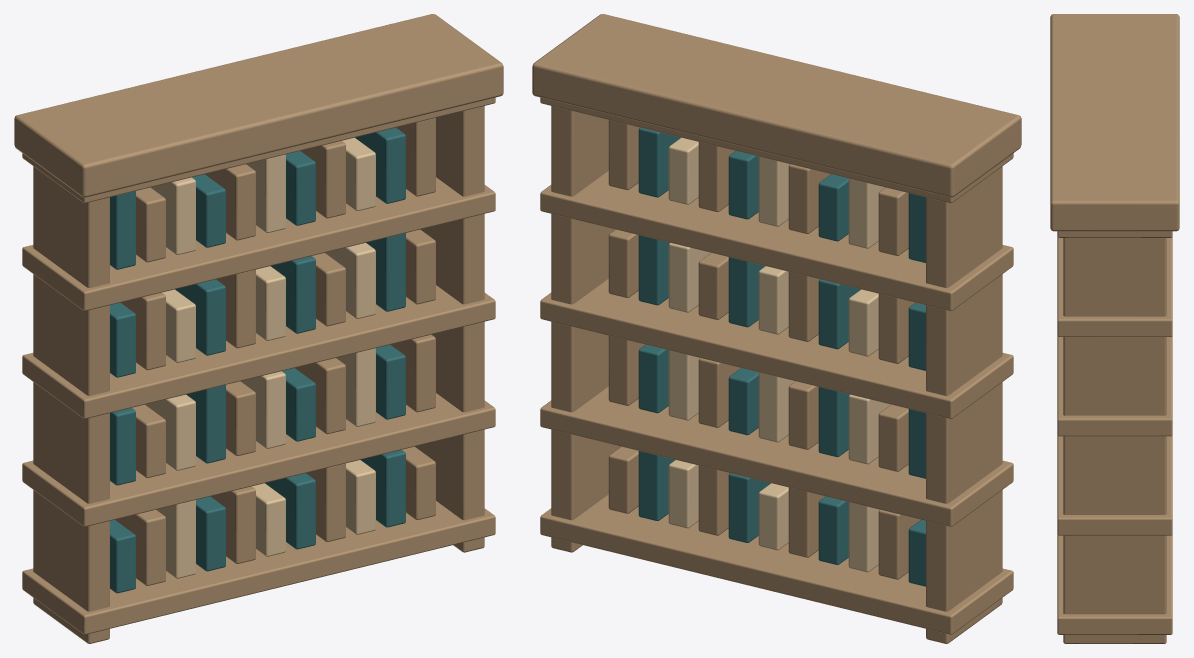
File: library_shelf.glb
The picture shows the model from 3 angles, left to right: view 1: azimuth 30°, elevation 25°; view 2: azimuth 150°, elevation 25°; view 3: azimuth 270°, elevation 25°; orthographic projection. The views are drawn at different scales.
Visible parts, largest first — view 1: library_shelf; view 2: library_shelf; view 3: library_shelf.
Boxes of the visible parts, x1,y1,x2,y2 form: library_shelf: (14,14,503,643); library_shelf: (532,14,1021,643); library_shelf: (1050,14,1179,643).
Bounding box in the file's own units: 2.25 × 2.48 × 0.65.
